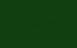eight: (27, 20, 31, 28), (52, 19, 56, 26)
five: (37, 20, 41, 27)
four: (32, 20, 36, 28)
nine: (17, 21, 21, 29)
seven: (22, 21, 26, 28)
three: (42, 19, 46, 27)
zero: (47, 19, 51, 27)
